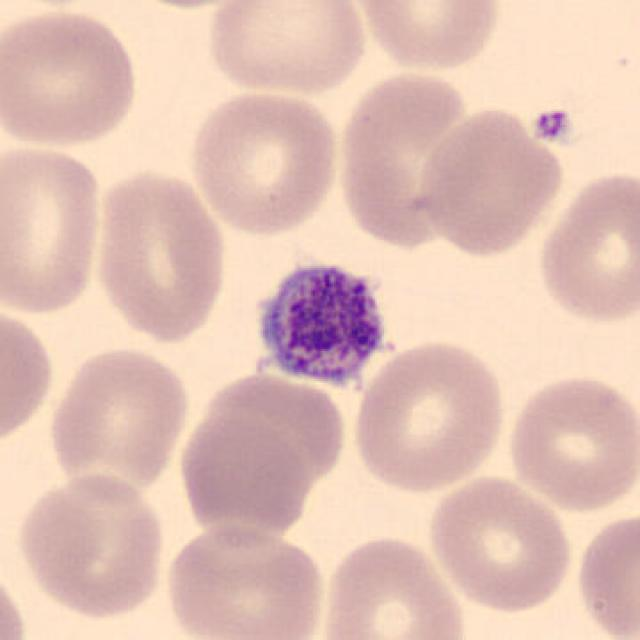Platelets: (240, 247, 402, 409), (530, 104, 576, 146)
RBC: (332, 65, 474, 252), (348, 334, 511, 496), (89, 164, 231, 347), (176, 367, 352, 508), (411, 102, 567, 259), (12, 469, 170, 622), (185, 85, 343, 238), (44, 342, 192, 499), (425, 471, 576, 615), (0, 3, 144, 152), (160, 520, 329, 640), (503, 368, 638, 515), (0, 137, 108, 319), (174, 412, 311, 544), (532, 167, 638, 328), (314, 530, 469, 640), (202, 0, 372, 99), (347, 0, 505, 74), (0, 300, 57, 455), (572, 508, 638, 640), (0, 560, 30, 640), (106, 0, 266, 12)
